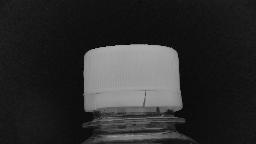Broken Ring: (133, 85, 159, 109), (79, 91, 103, 113)
Loose Cap: (74, 78, 194, 132)
